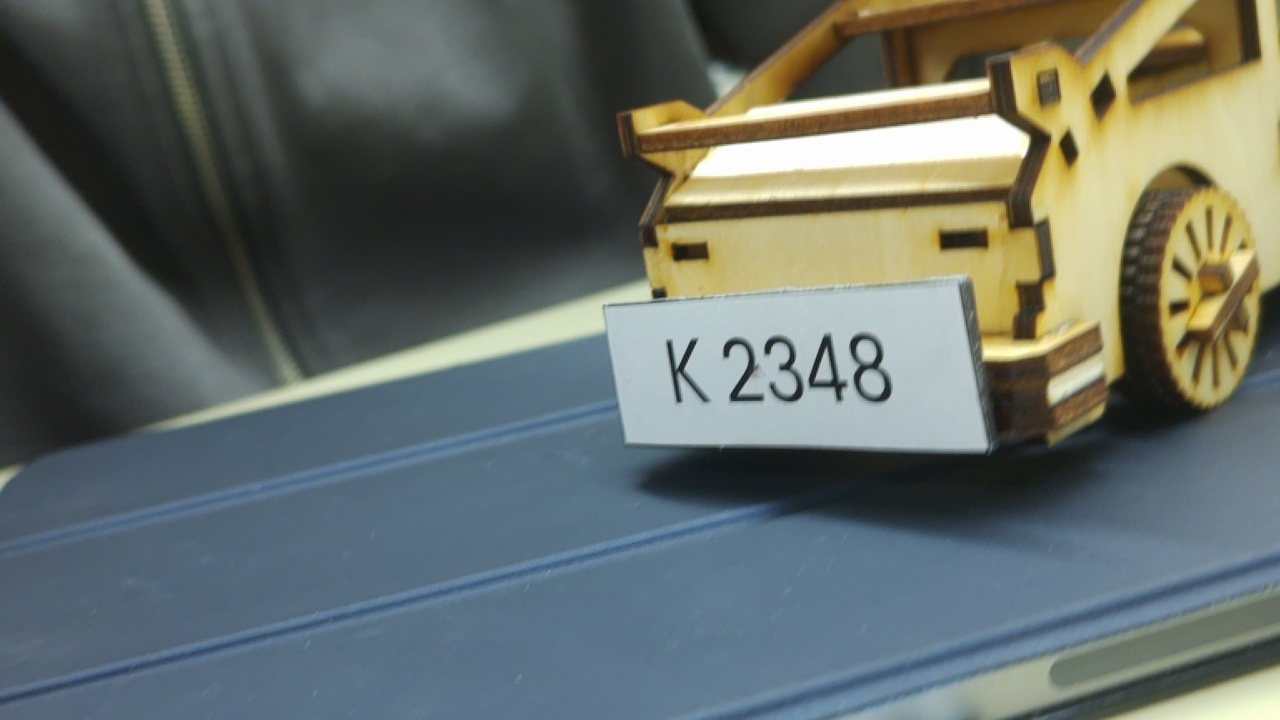license_plate: (589, 269, 1000, 460)
